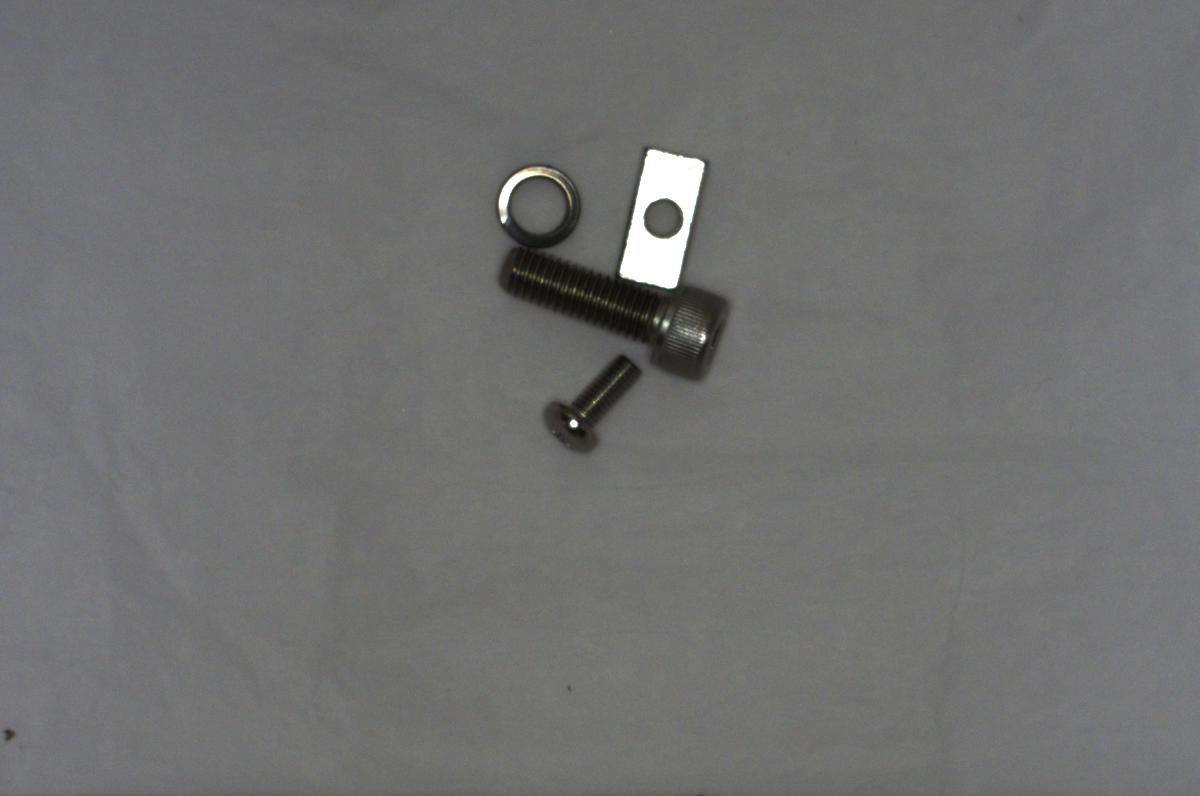Hexagon screw: (486, 240, 740, 389)
Rectangular nut: (619, 142, 704, 293)
Round head screw: (534, 348, 644, 446)
Spring washer: (490, 159, 582, 246)
